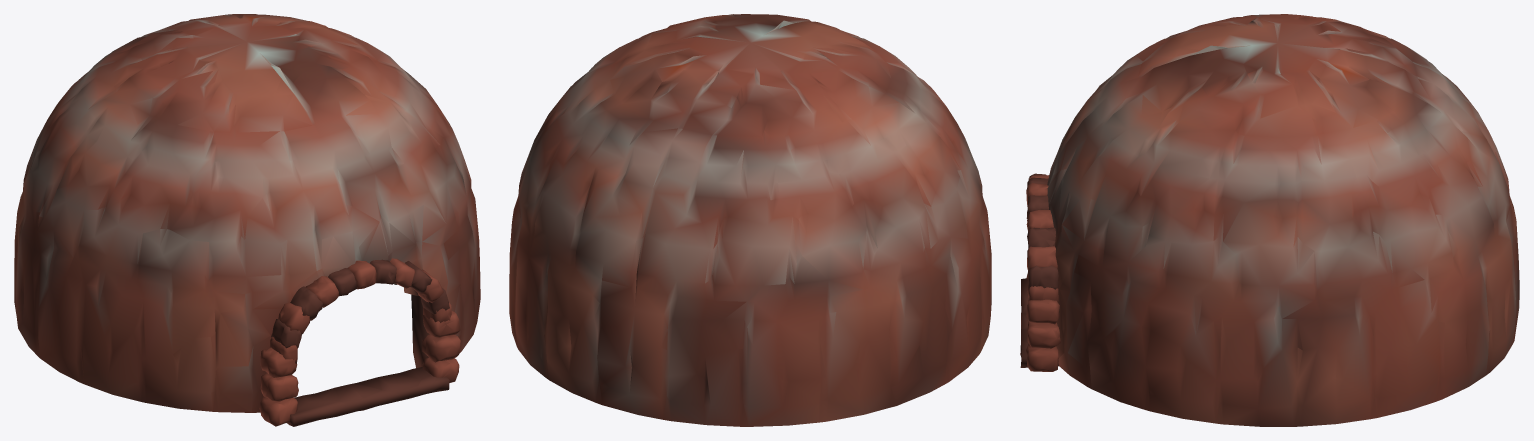
Rendered from ember_oven_dome_lod1.glb.
3 views of the same model, side by side, from view 1: azimuth 30°, elevation 25°; view 2: azimuth 150°, elevation 25°; view 3: azimuth 270°, elevation 25° (orthographic). The views are drawn at different scales.
Parts seen in each view (by area): view 1: ember_oven_dome.001; view 2: ember_oven_dome.001; view 3: ember_oven_dome.001.
Boxes of the visible parts, x1,y1,x2,y2 form: ember_oven_dome.001: (14, 14, 480, 426); ember_oven_dome.001: (509, 14, 991, 426); ember_oven_dome.001: (1020, 14, 1519, 426).
Bounding box in the file's own units: 35.94 × 23.54 × 37.17.
